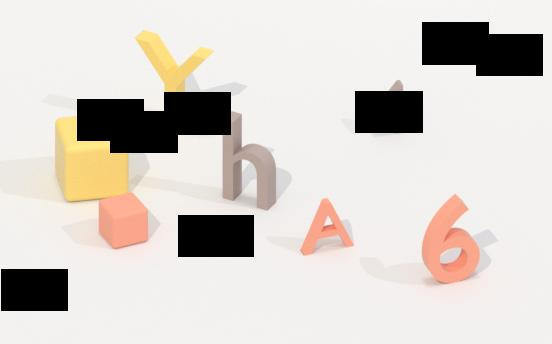4: (365, 77, 415, 134)
6: (416, 199, 485, 285)
A-hoa: (296, 194, 360, 261)
Y-hoa: (123, 28, 227, 132)
h: (215, 112, 287, 209)
hop: (48, 112, 139, 203), (94, 190, 155, 251)
